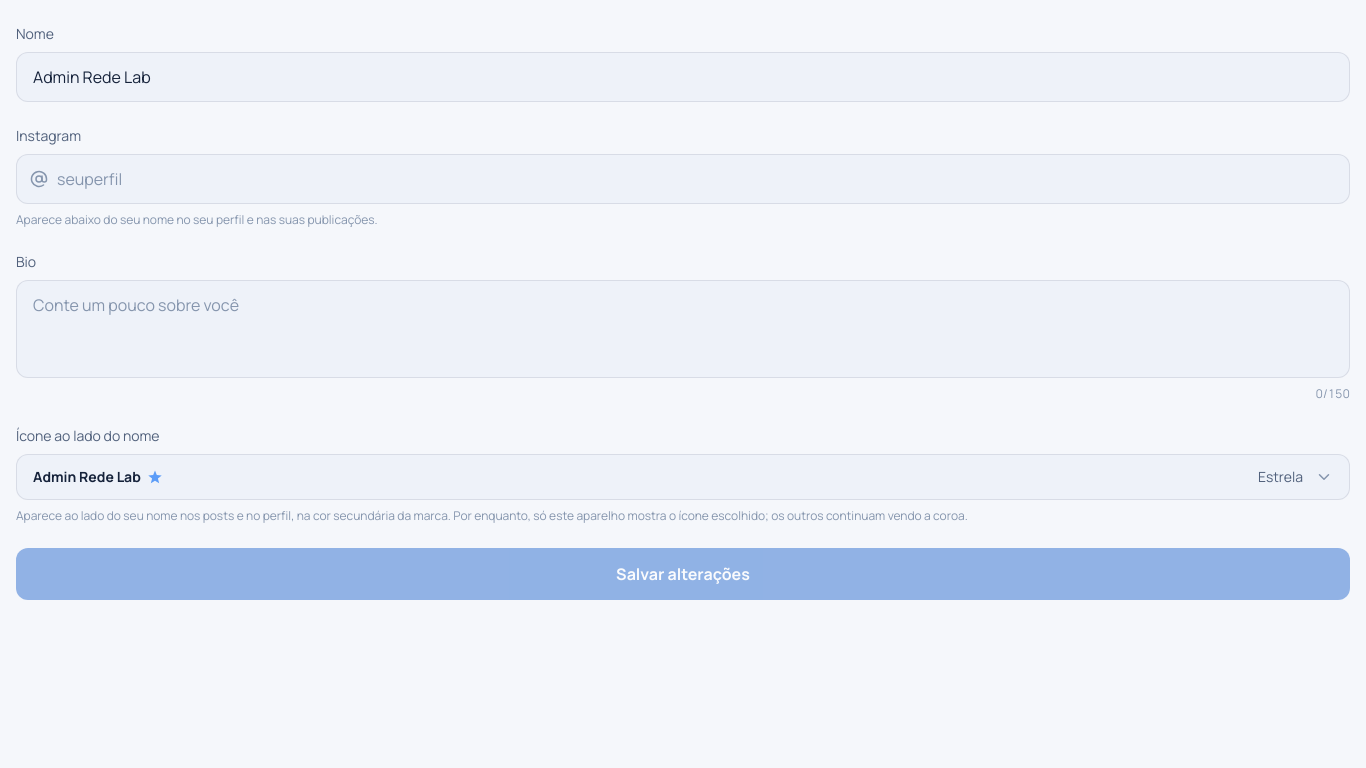
Test: EditProfileForm — the administrator icon (2026-10-06) › 3b. picking the current icon again leaves the form clean
Click the dropdown: (87,476) [16,454,1350,500]
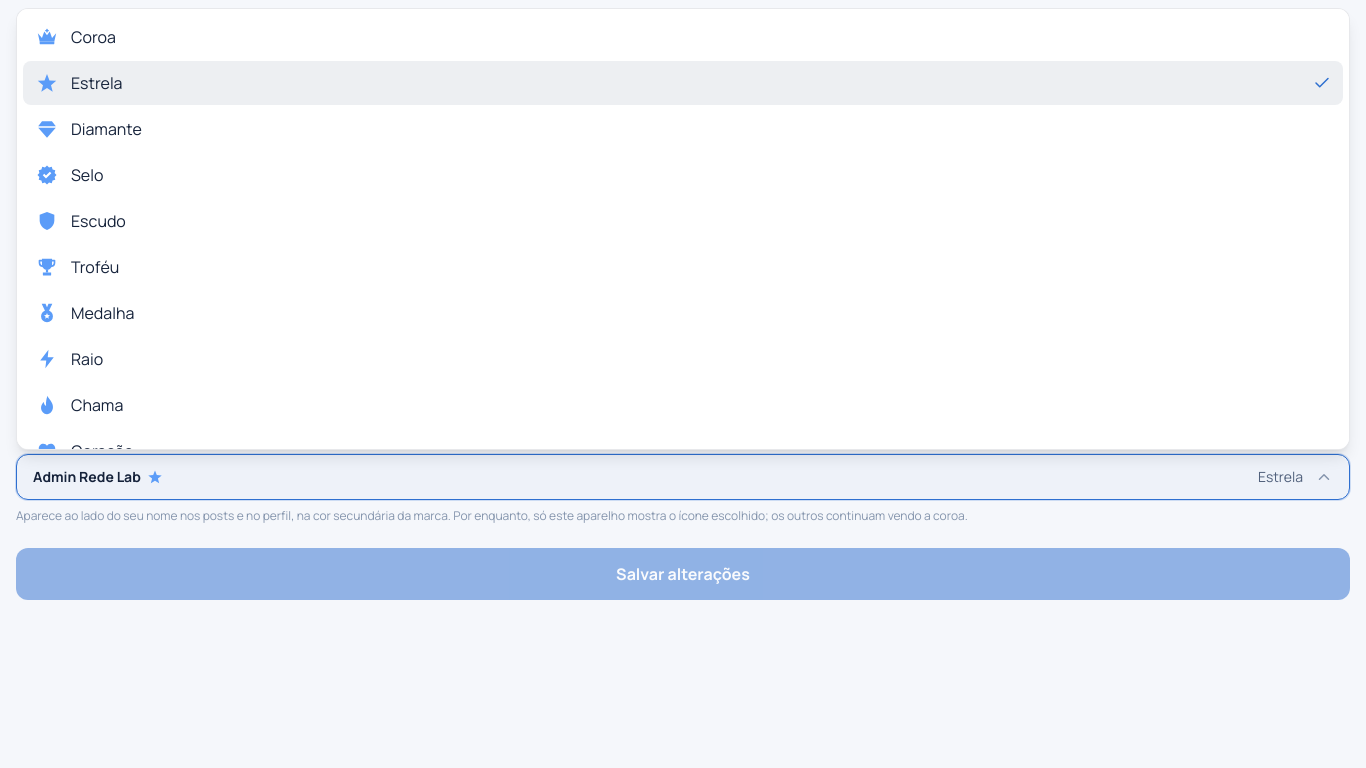
Click the option "Diamante": (89,129) [36,118,142,140]
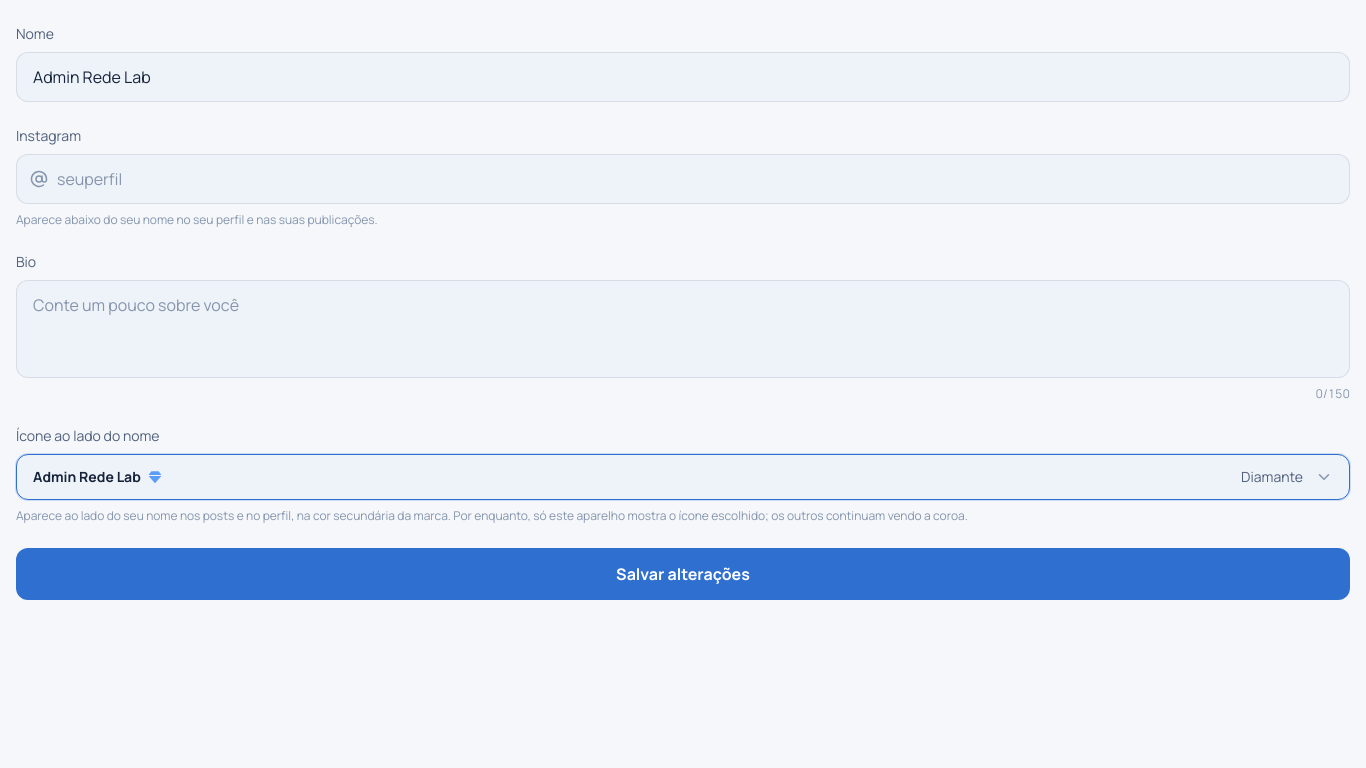
Click the dropdown: (87,476) [16,454,1350,500]
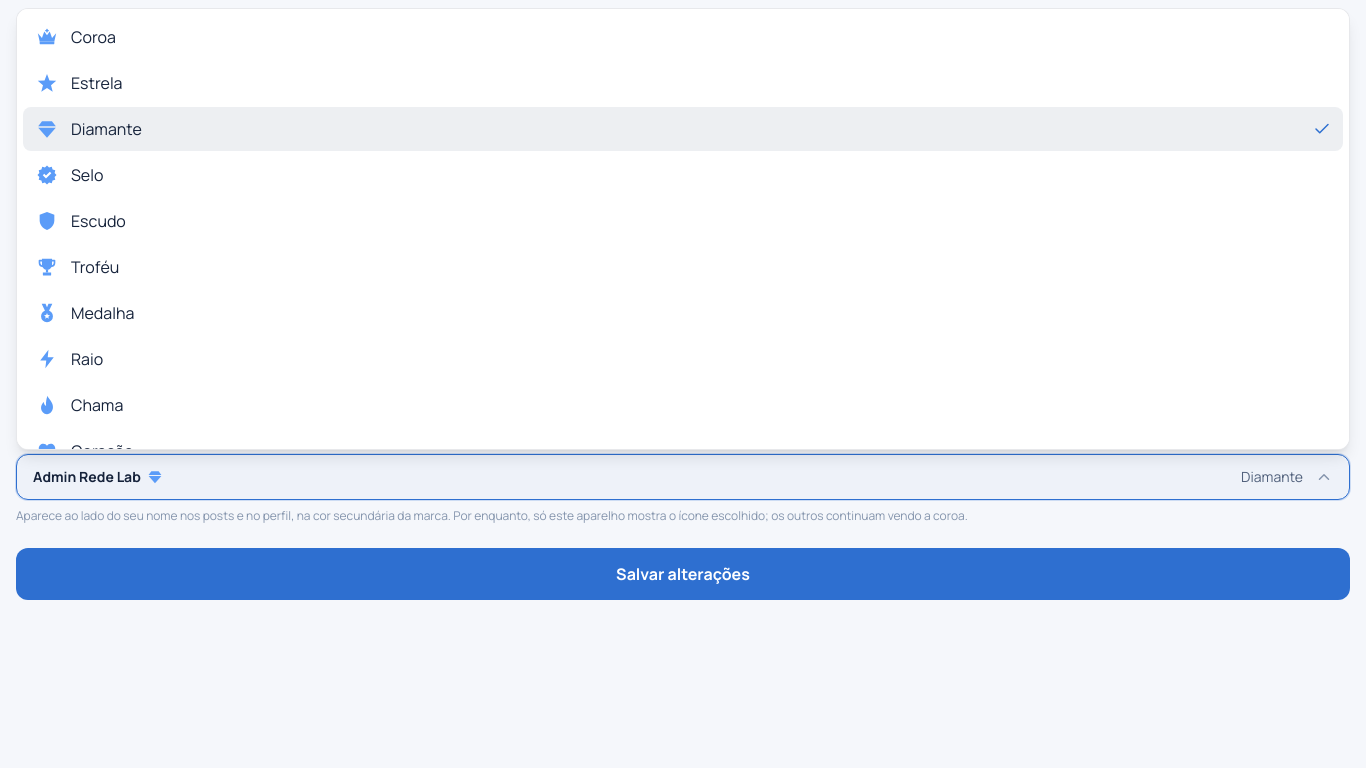
Click the option "Estrela": (79,83) [36,72,122,94]
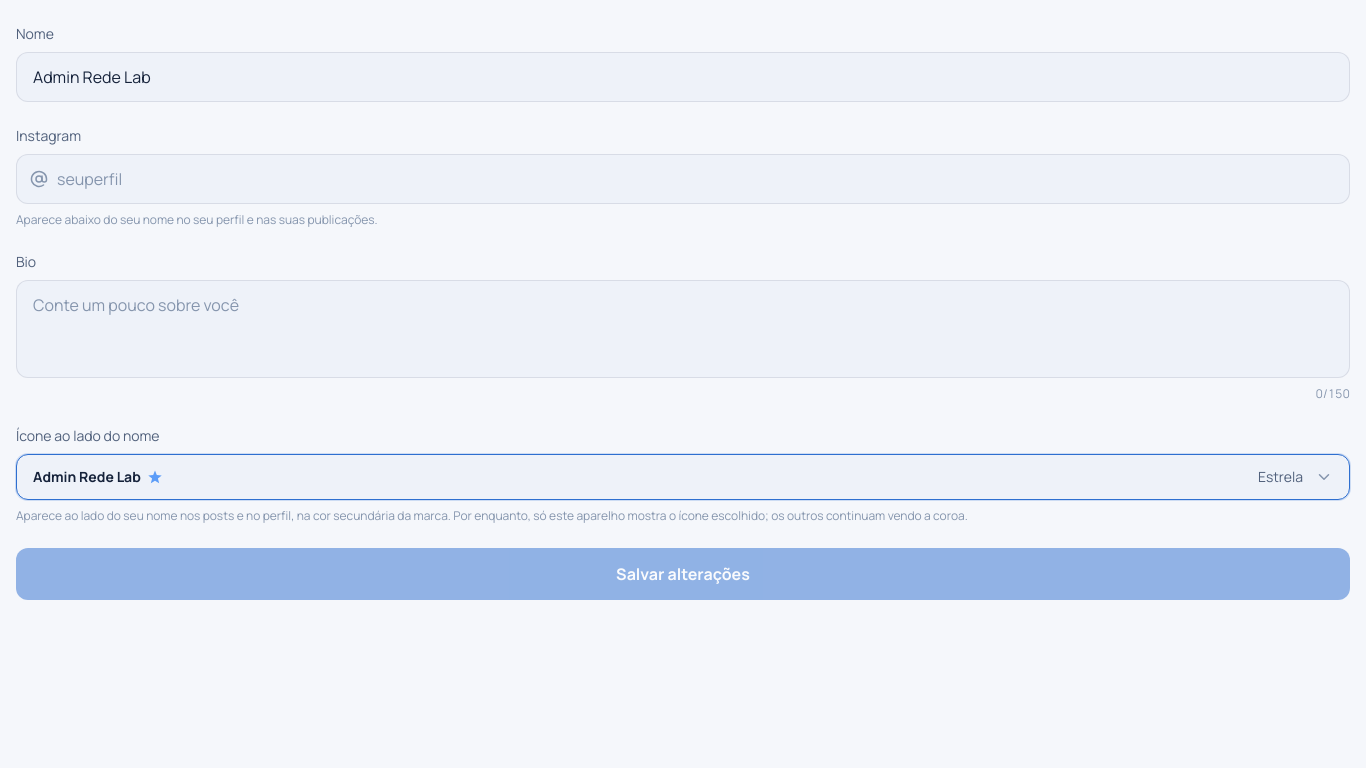
Now the button "Salvar alterações" is disabled, box [16,548,1350,600]
